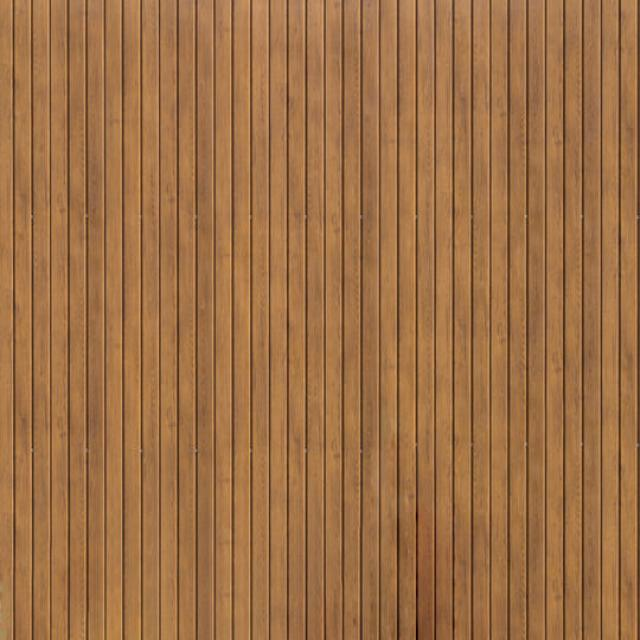perfect-wooden-plate: (0, 2, 640, 638)
